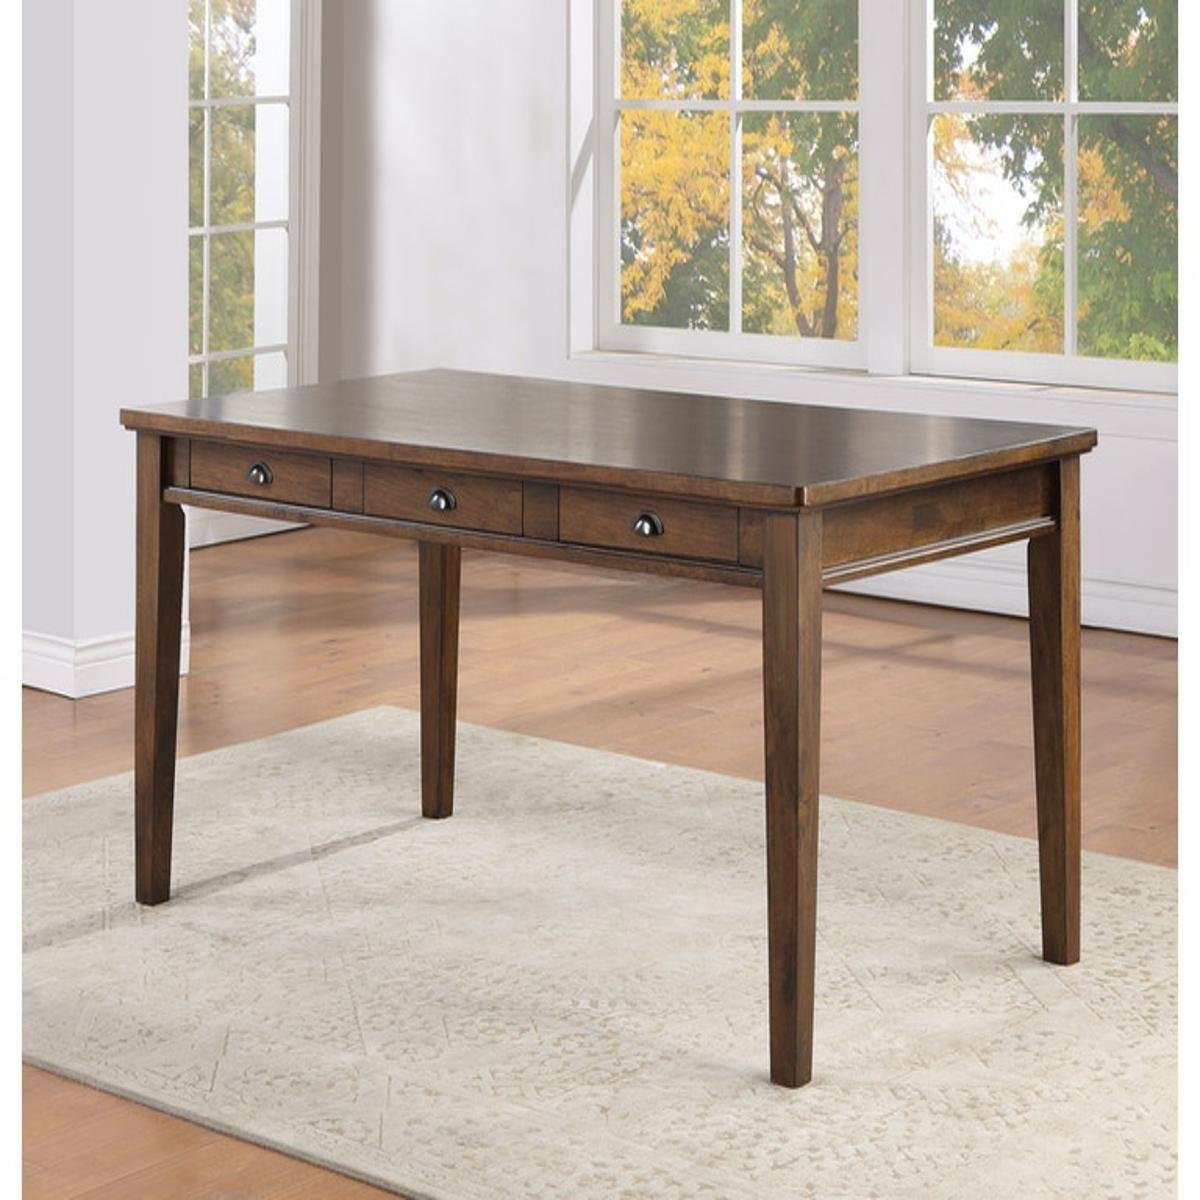Table: (102, 341, 1138, 1113)
